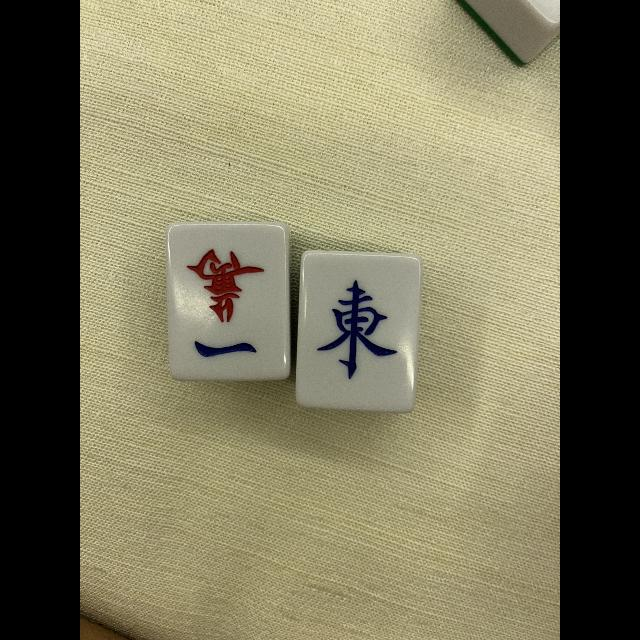c1: (168, 225, 286, 378)
we: (303, 255, 412, 410)
